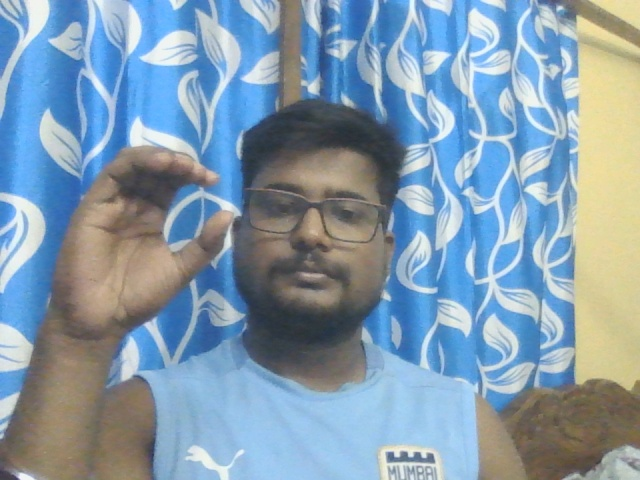C: (52, 146, 234, 329)
